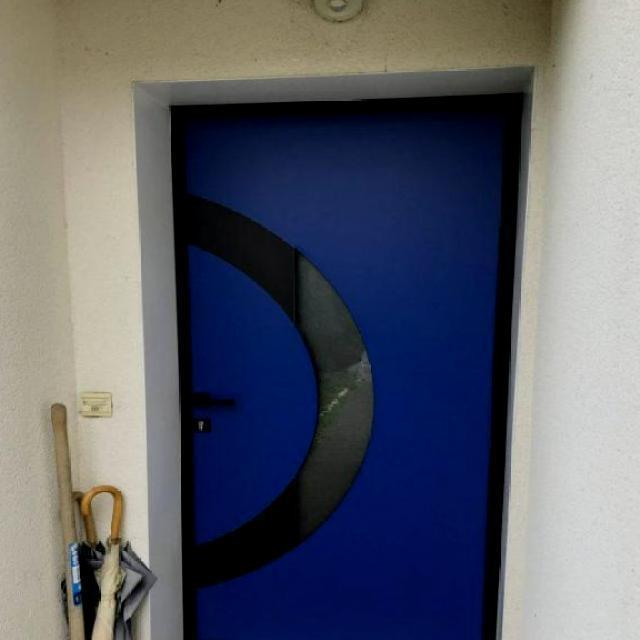door: (167, 88, 524, 638)
